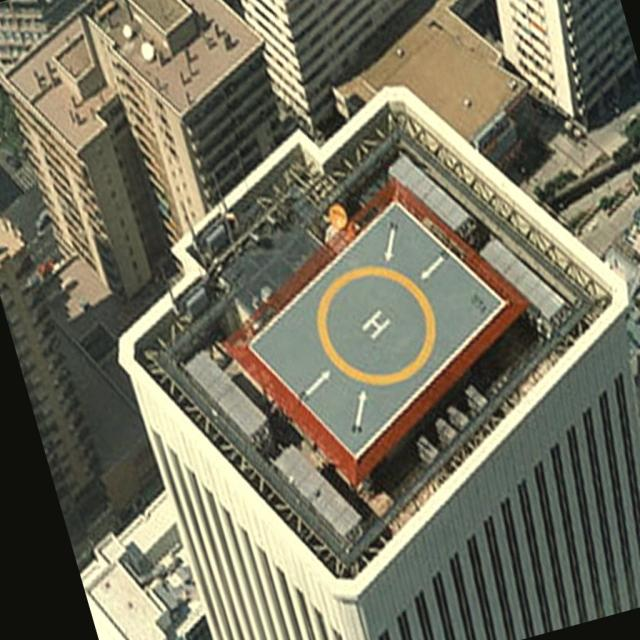helipad: (313, 264, 437, 386)
